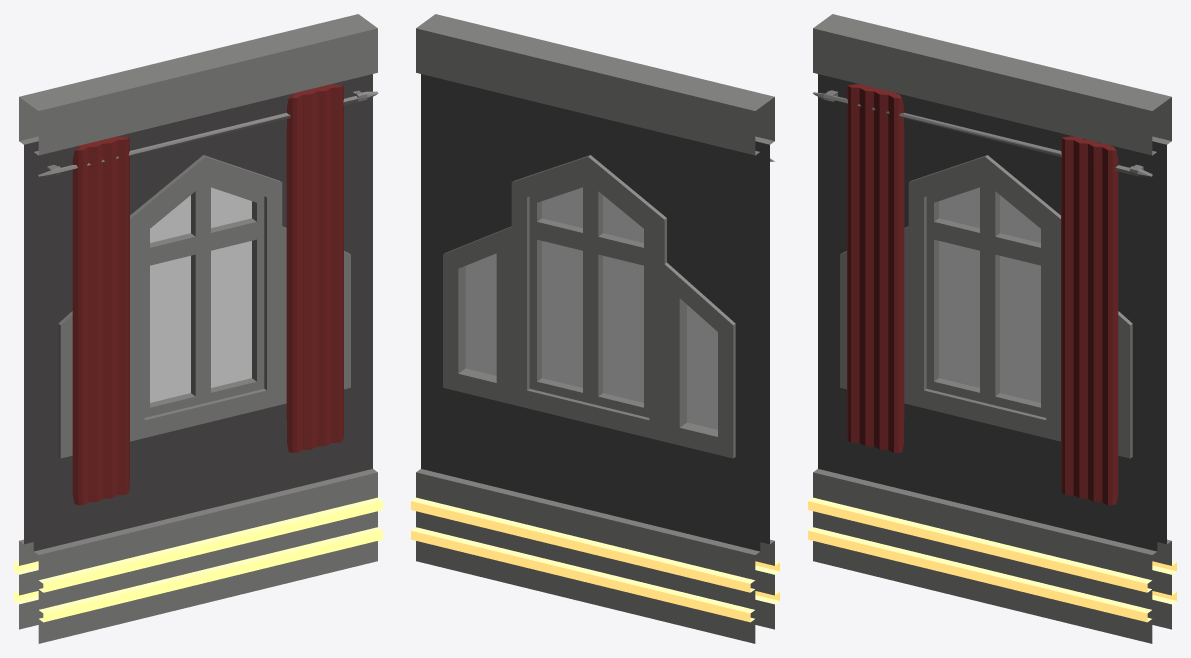
The model's file is window.fbx.
3 renders of one model, left to right at view 1: azimuth 30°, elevation 25°; view 2: azimuth 150°, elevation 25°; view 3: azimuth 330°, elevation 25°, orthographic.
Parts seen in each view (by area): view 1: Wall.Window; view 2: Wall.Window; view 3: Wall.Window.
Part boxes in pixels (<box>): Wall.Window: <box>14,14,382,643</box>; Wall.Window: <box>411,14,779,643</box>; Wall.Window: <box>808,14,1176,643</box>.
Bounding box in the file's own units: 200 × 300 × 30.
